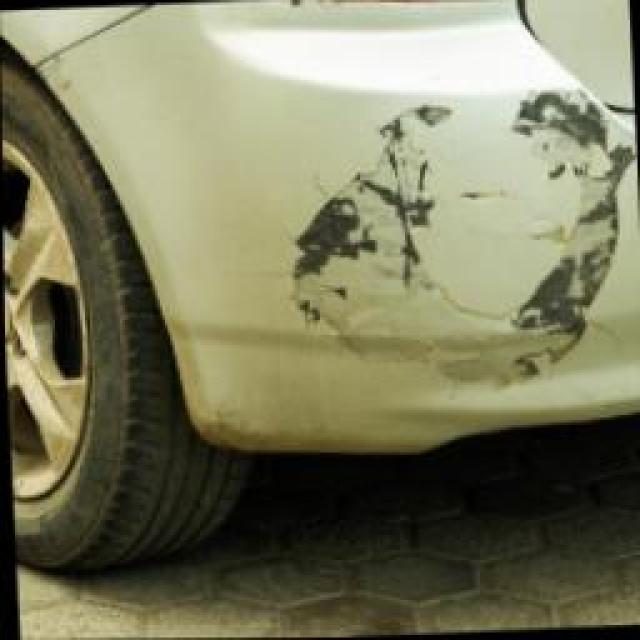Bumper: (182, 40, 640, 425)
